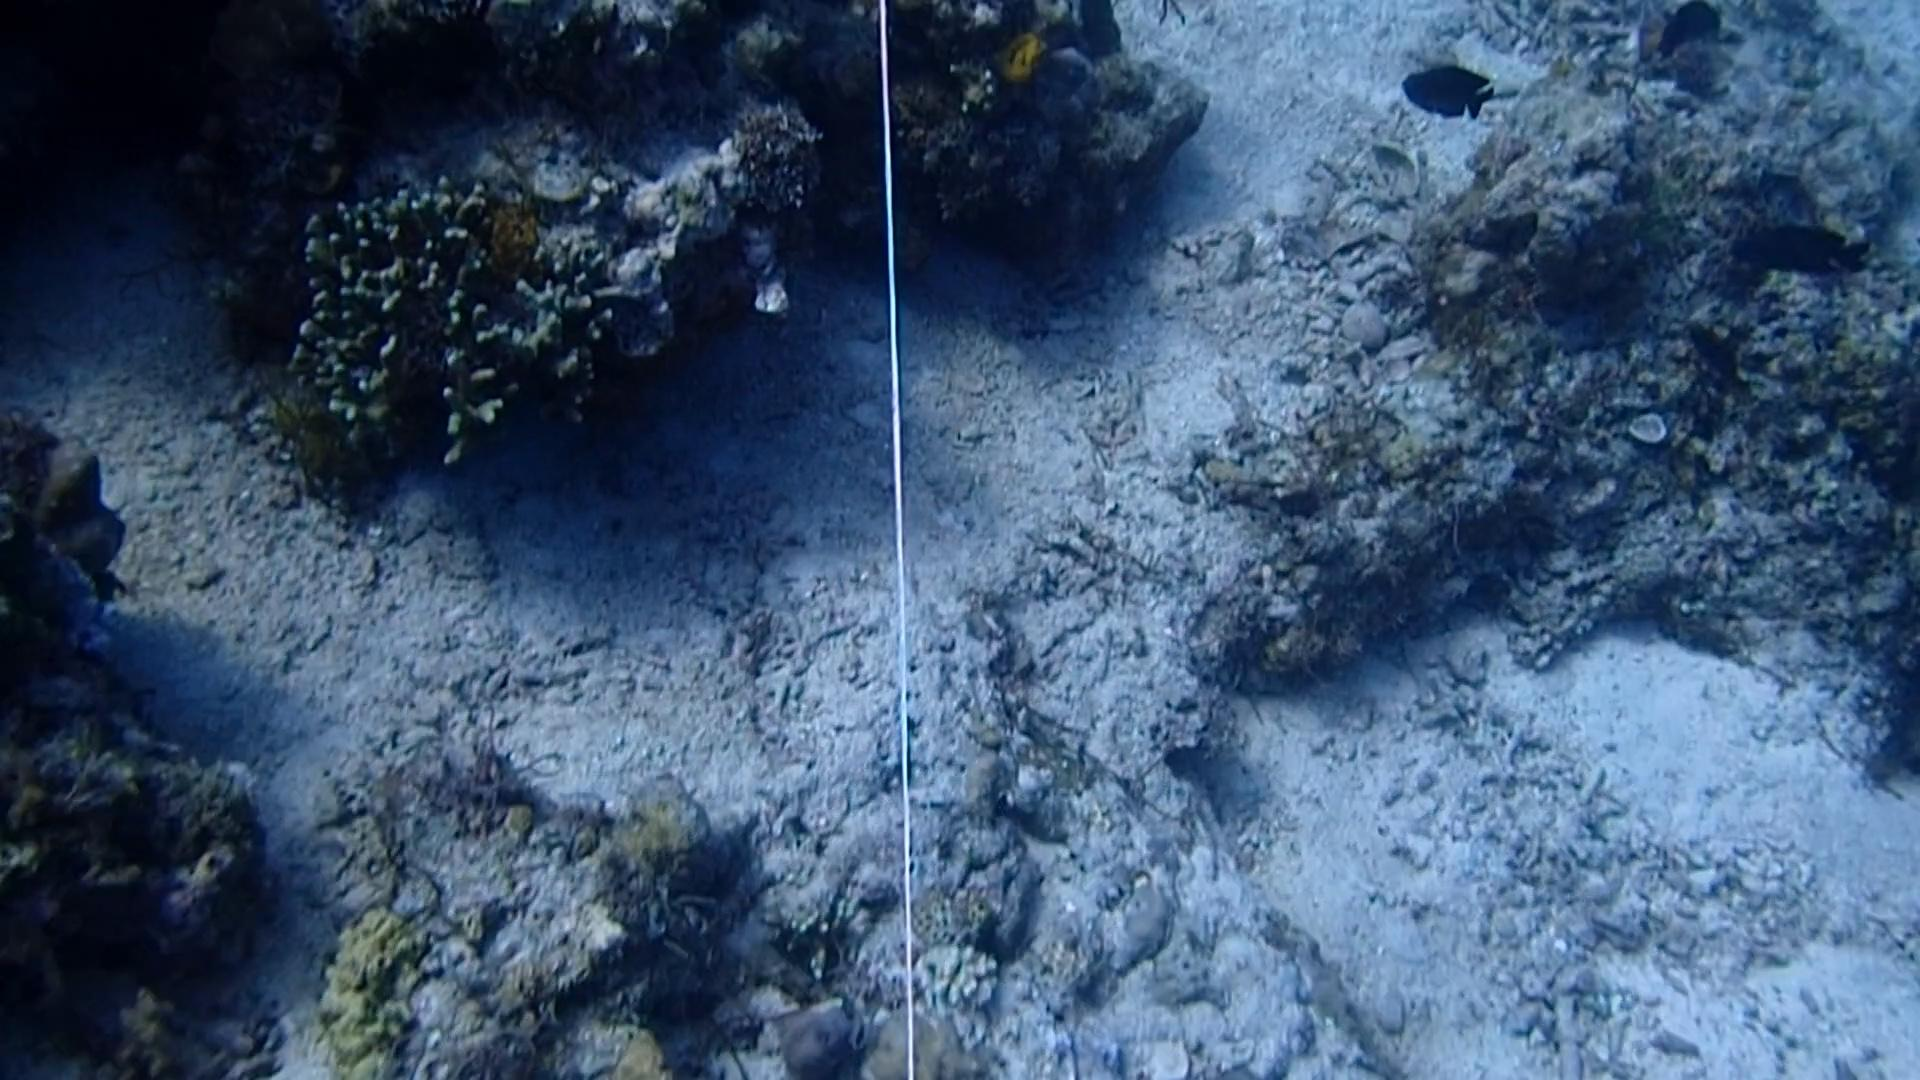Dark Fish: (1375, 45, 1507, 131), (1733, 207, 1874, 281), (1675, 311, 1746, 406), (1648, 0, 1737, 66)
